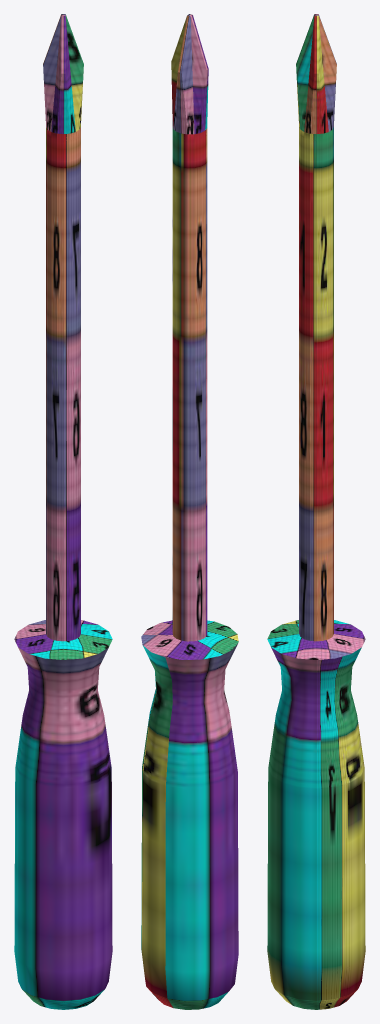
The model's file is PhilipsScrewdriver.dae.
3 views of the same model, side by side, from view 1: azimuth 90°, elevation 25°; view 2: azimuth 150°, elevation 25°; view 3: azimuth 270°, elevation 25° (orthographic).
Visible parts, largest first — view 1: Philips_Screwdriver_mesh; view 2: Philips_Screwdriver_mesh; view 3: Philips_Screwdriver_mesh.
Boxes of the visible parts, box(x1,y1,x2,y2) form: Philips_Screwdriver_mesh: box(14, 14, 112, 1009); Philips_Screwdriver_mesh: box(141, 14, 238, 1009); Philips_Screwdriver_mesh: box(267, 14, 365, 1009).
Bounding box in the file's own units: 0.02 × 0.22 × 0.02.
